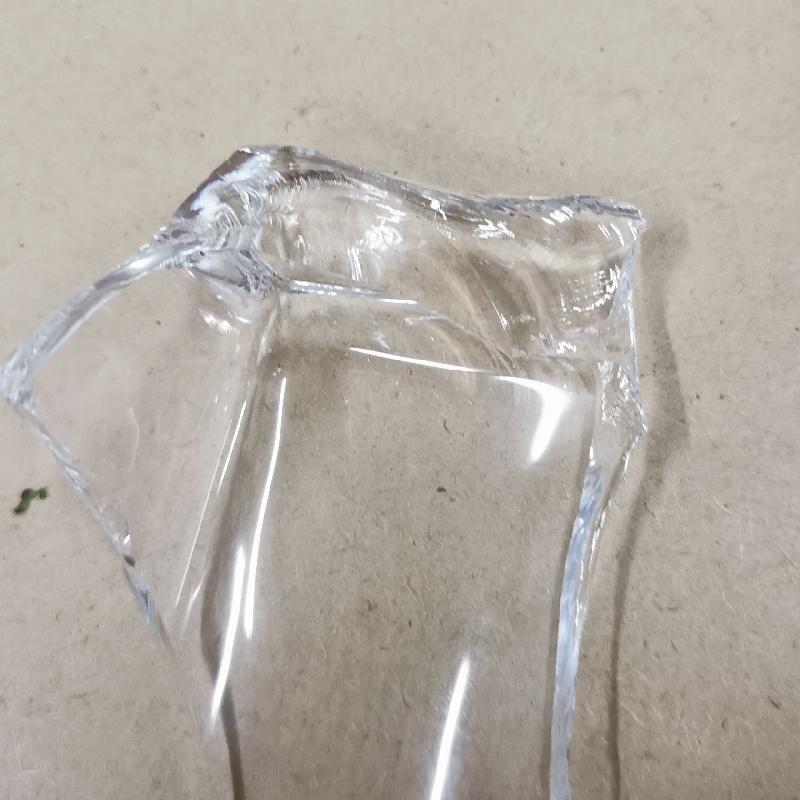glass: (9, 134, 642, 799)
